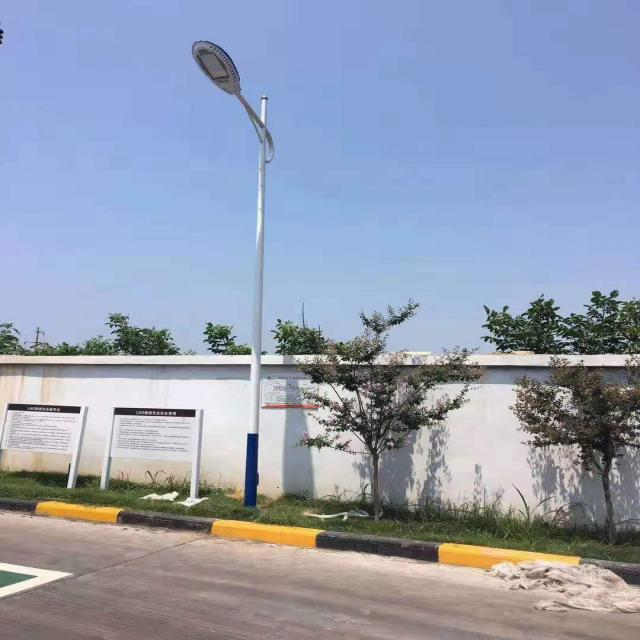pole: (238, 170, 270, 507)
